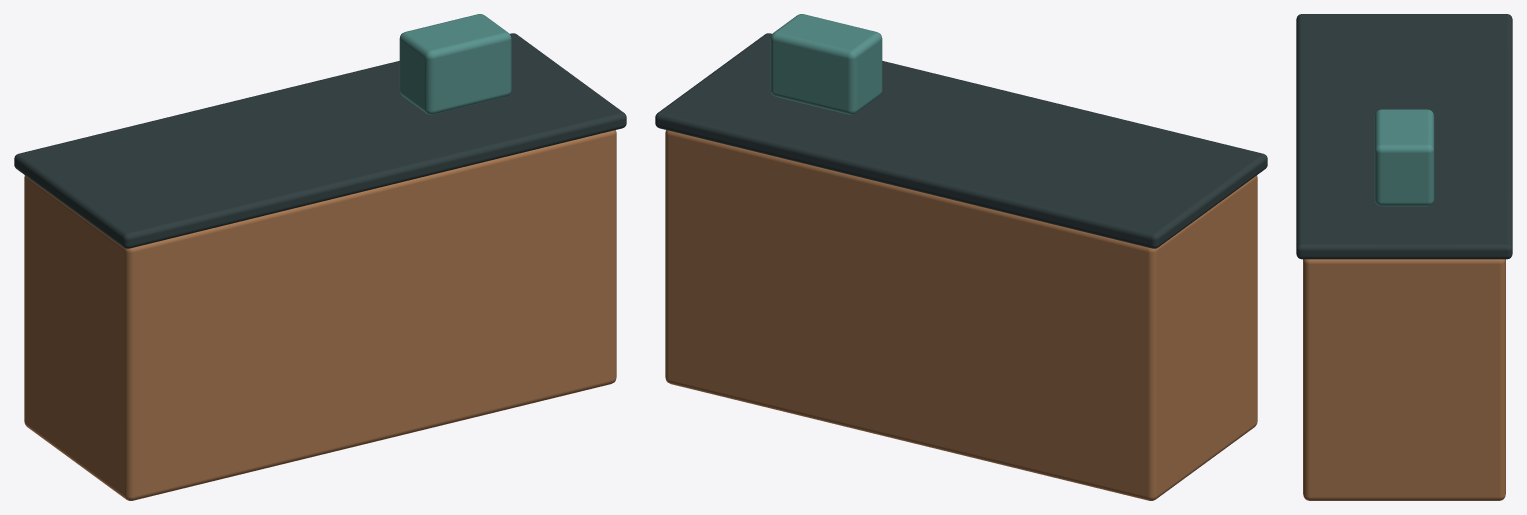
The model's file is counter.glb.
3 renders of one model, left to right at view 1: azimuth 30°, elevation 25°; view 2: azimuth 150°, elevation 25°; view 3: azimuth 270°, elevation 25°, orthographic. The views are drawn at different scales.
Visible parts, largest first — view 1: counter; view 2: counter; view 3: counter.
Boxes of the visible parts, x1=… form: counter: x1=14, y1=14, x2=626, y2=500; counter: x1=655, y1=14, x2=1267, y2=500; counter: x1=1296, y1=14, x2=1512, y2=500.
Bounding box in the file's own units: 2.05 × 1.32 × 0.8.
